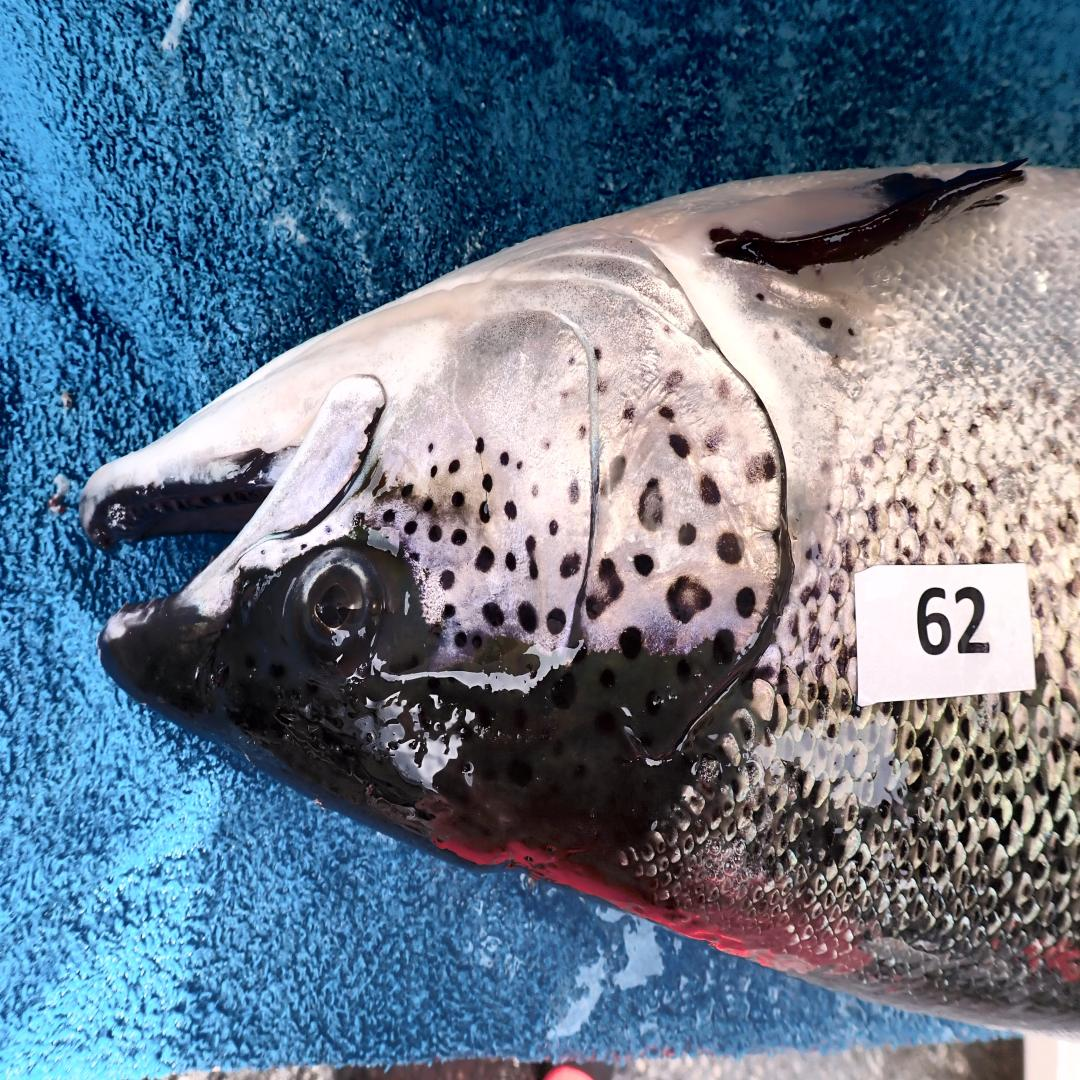spot: (585, 557, 625, 622), (666, 576, 712, 624), (637, 478, 664, 531), (745, 452, 777, 483), (717, 532, 743, 564), (713, 629, 735, 665), (619, 626, 643, 659), (699, 474, 720, 505), (517, 601, 537, 633), (735, 587, 755, 618), (609, 455, 626, 491), (525, 536, 538, 580), (482, 602, 504, 627), (546, 608, 566, 635), (705, 427, 727, 451), (560, 552, 581, 577), (475, 546, 494, 572), (669, 435, 690, 458), (633, 554, 654, 576), (664, 370, 684, 390), (678, 523, 696, 545), (716, 378, 729, 400), (440, 570, 454, 590), (451, 528, 467, 545), (569, 478, 579, 503), (504, 501, 517, 520), (451, 491, 465, 508), (622, 404, 635, 422), (659, 405, 674, 420), (454, 631, 467, 648), (428, 525, 441, 542), (400, 483, 414, 498), (505, 552, 516, 571), (479, 503, 490, 522), (422, 496, 434, 512), (482, 473, 492, 492), (404, 521, 417, 535), (382, 509, 395, 523), (443, 604, 455, 619), (471, 633, 482, 649), (448, 459, 460, 473), (549, 519, 558, 535), (475, 437, 484, 453), (598, 377, 608, 391), (422, 568, 431, 582), (541, 438, 551, 450), (500, 452, 509, 465), (578, 425, 586, 439), (409, 551, 420, 561), (593, 347, 602, 359), (531, 484, 538, 496), (430, 465, 437, 477), (568, 356, 575, 365), (428, 442, 434, 451), (517, 460, 522, 469), (419, 579, 423, 584), (426, 568, 429, 571)
